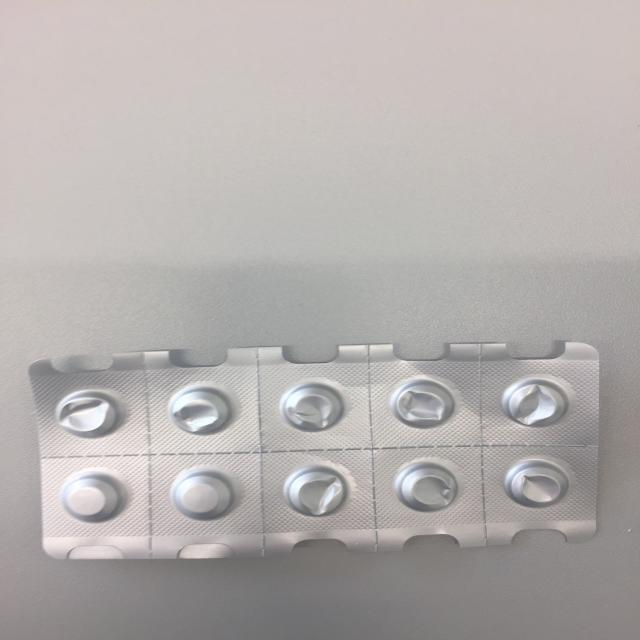Empty: (157, 383, 247, 442), (273, 376, 352, 436), (495, 376, 578, 430), (391, 457, 463, 517), (387, 374, 461, 432), (50, 386, 126, 442), (281, 464, 354, 522), (498, 456, 573, 511)
Pill: (166, 464, 238, 524), (56, 472, 126, 524)
